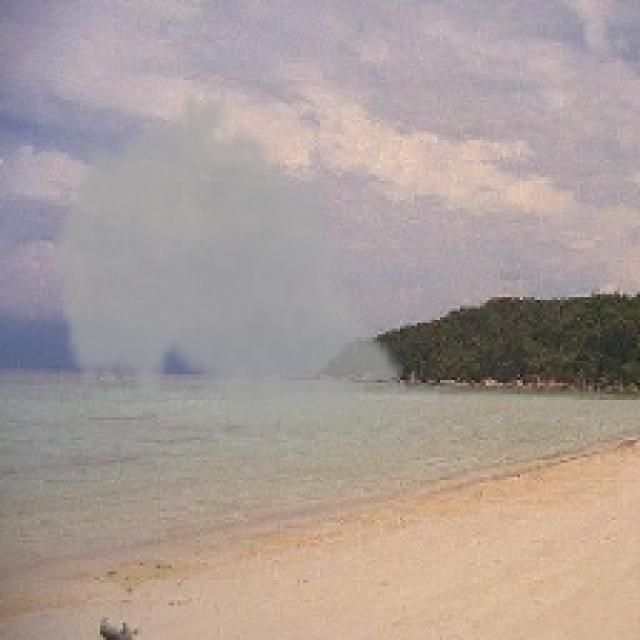smoke: (48, 83, 406, 448)
